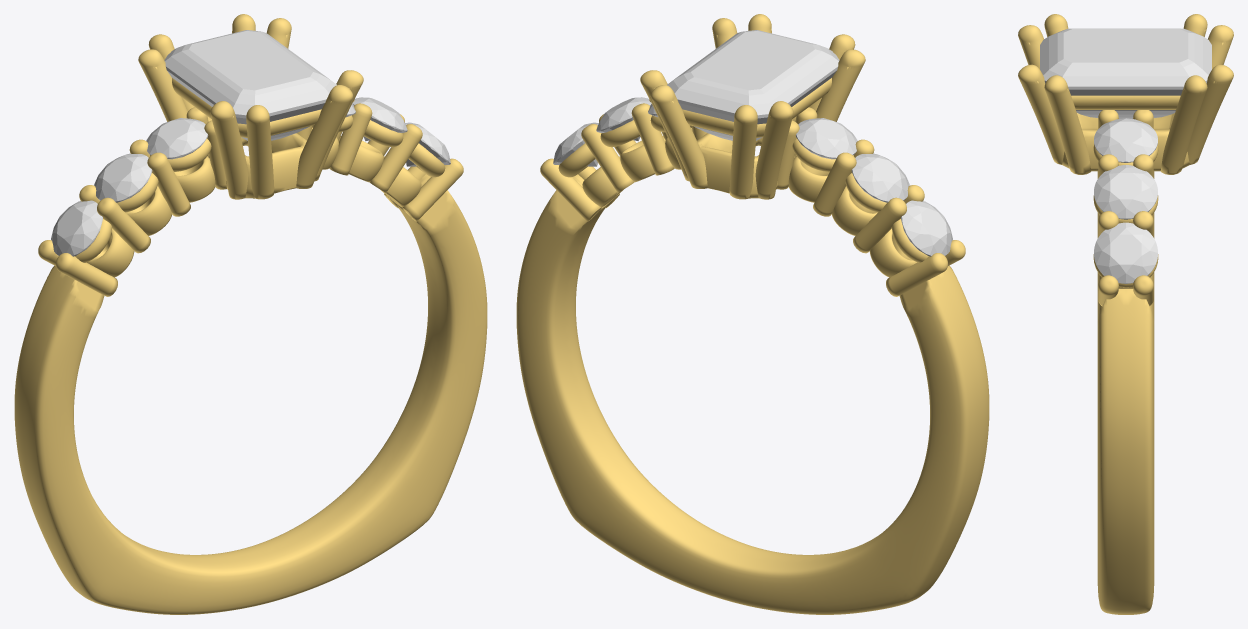
The model's file is diamond-emerald-yellowgold-8prong-europeanshank-7stone.glb.
The picture shows the model from 3 angles, left to right: view 1: azimuth 30°, elevation 25°; view 2: azimuth 150°, elevation 25°; view 3: azimuth 270°, elevation 25°; orthographic projection.
Visible parts, largest first — view 1: metal.001, stone, side, side.001, side.002, side.004, side.005; view 2: metal.001, stone, side, side.001, side.002, side.004, side.005; view 3: metal.001, stone, side.005, side.004, side.003.
Boxes of the visible parts, box(x1,y1,x2,y2) form: metal.001: box(14, 14, 487, 614); stone: box(164, 30, 336, 140); side: box(51, 200, 102, 256); side.001: box(94, 153, 152, 202); side.002: box(146, 118, 208, 159); side.004: box(352, 97, 407, 141); side.005: box(405, 122, 450, 166); metal.001: box(516, 14, 989, 614); stone: box(667, 30, 839, 140); side: box(901, 200, 952, 256); side.001: box(851, 153, 909, 202); side.002: box(796, 118, 857, 159); side.004: box(596, 97, 651, 141); side.005: box(553, 122, 598, 166); metal.001: box(1018, 14, 1233, 614); stone: box(1040, 28, 1211, 118); side.005: box(1094, 222, 1157, 283); side.004: box(1094, 165, 1157, 219); side.003: box(1094, 118, 1157, 162).
Bounding box in the file's own units: 20.1 × 22.75 × 8.4.
